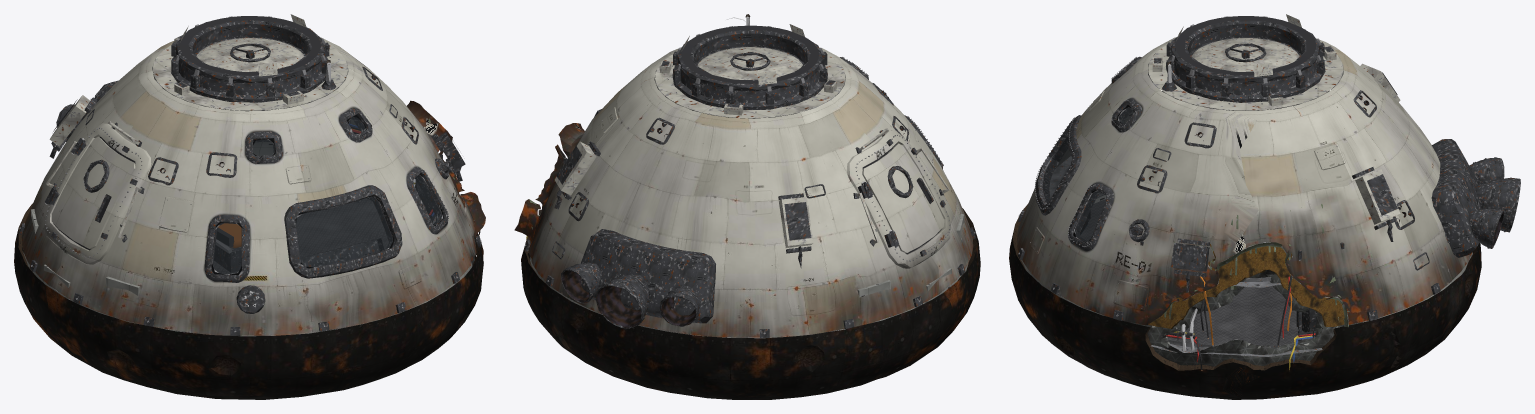
File: capsule_shell_remnant_lod1.glb
3 renders of one model, left to right at view 1: azimuth 30°, elevation 25°; view 2: azimuth 150°, elevation 25°; view 3: azimuth 270°, elevation 25°, orthographic. The views are drawn at different scales.
Visible parts, largest first — view 1: capsule_shell_remnant; view 2: capsule_shell_remnant; view 3: capsule_shell_remnant.
Part boxes in pixels (x1=…): capsule_shell_remnant: x1=14, y1=14, x2=485, y2=399; capsule_shell_remnant: x1=514, y1=14, x2=980, y2=399; capsule_shell_remnant: x1=1009, y1=14, x2=1520, y2=399.
Size of the model in its own units: 3.95 by 2.85 by 4.24.
Materials: 38 (18 with a texture image).
